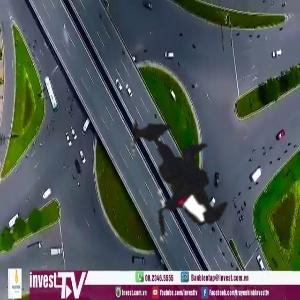drone: (72, 82, 269, 279)
